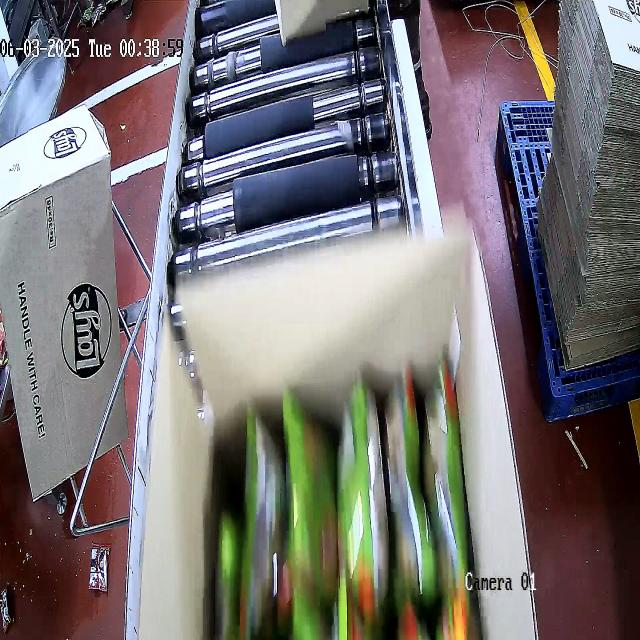YOGURT_HERB: (211, 360, 478, 640)
